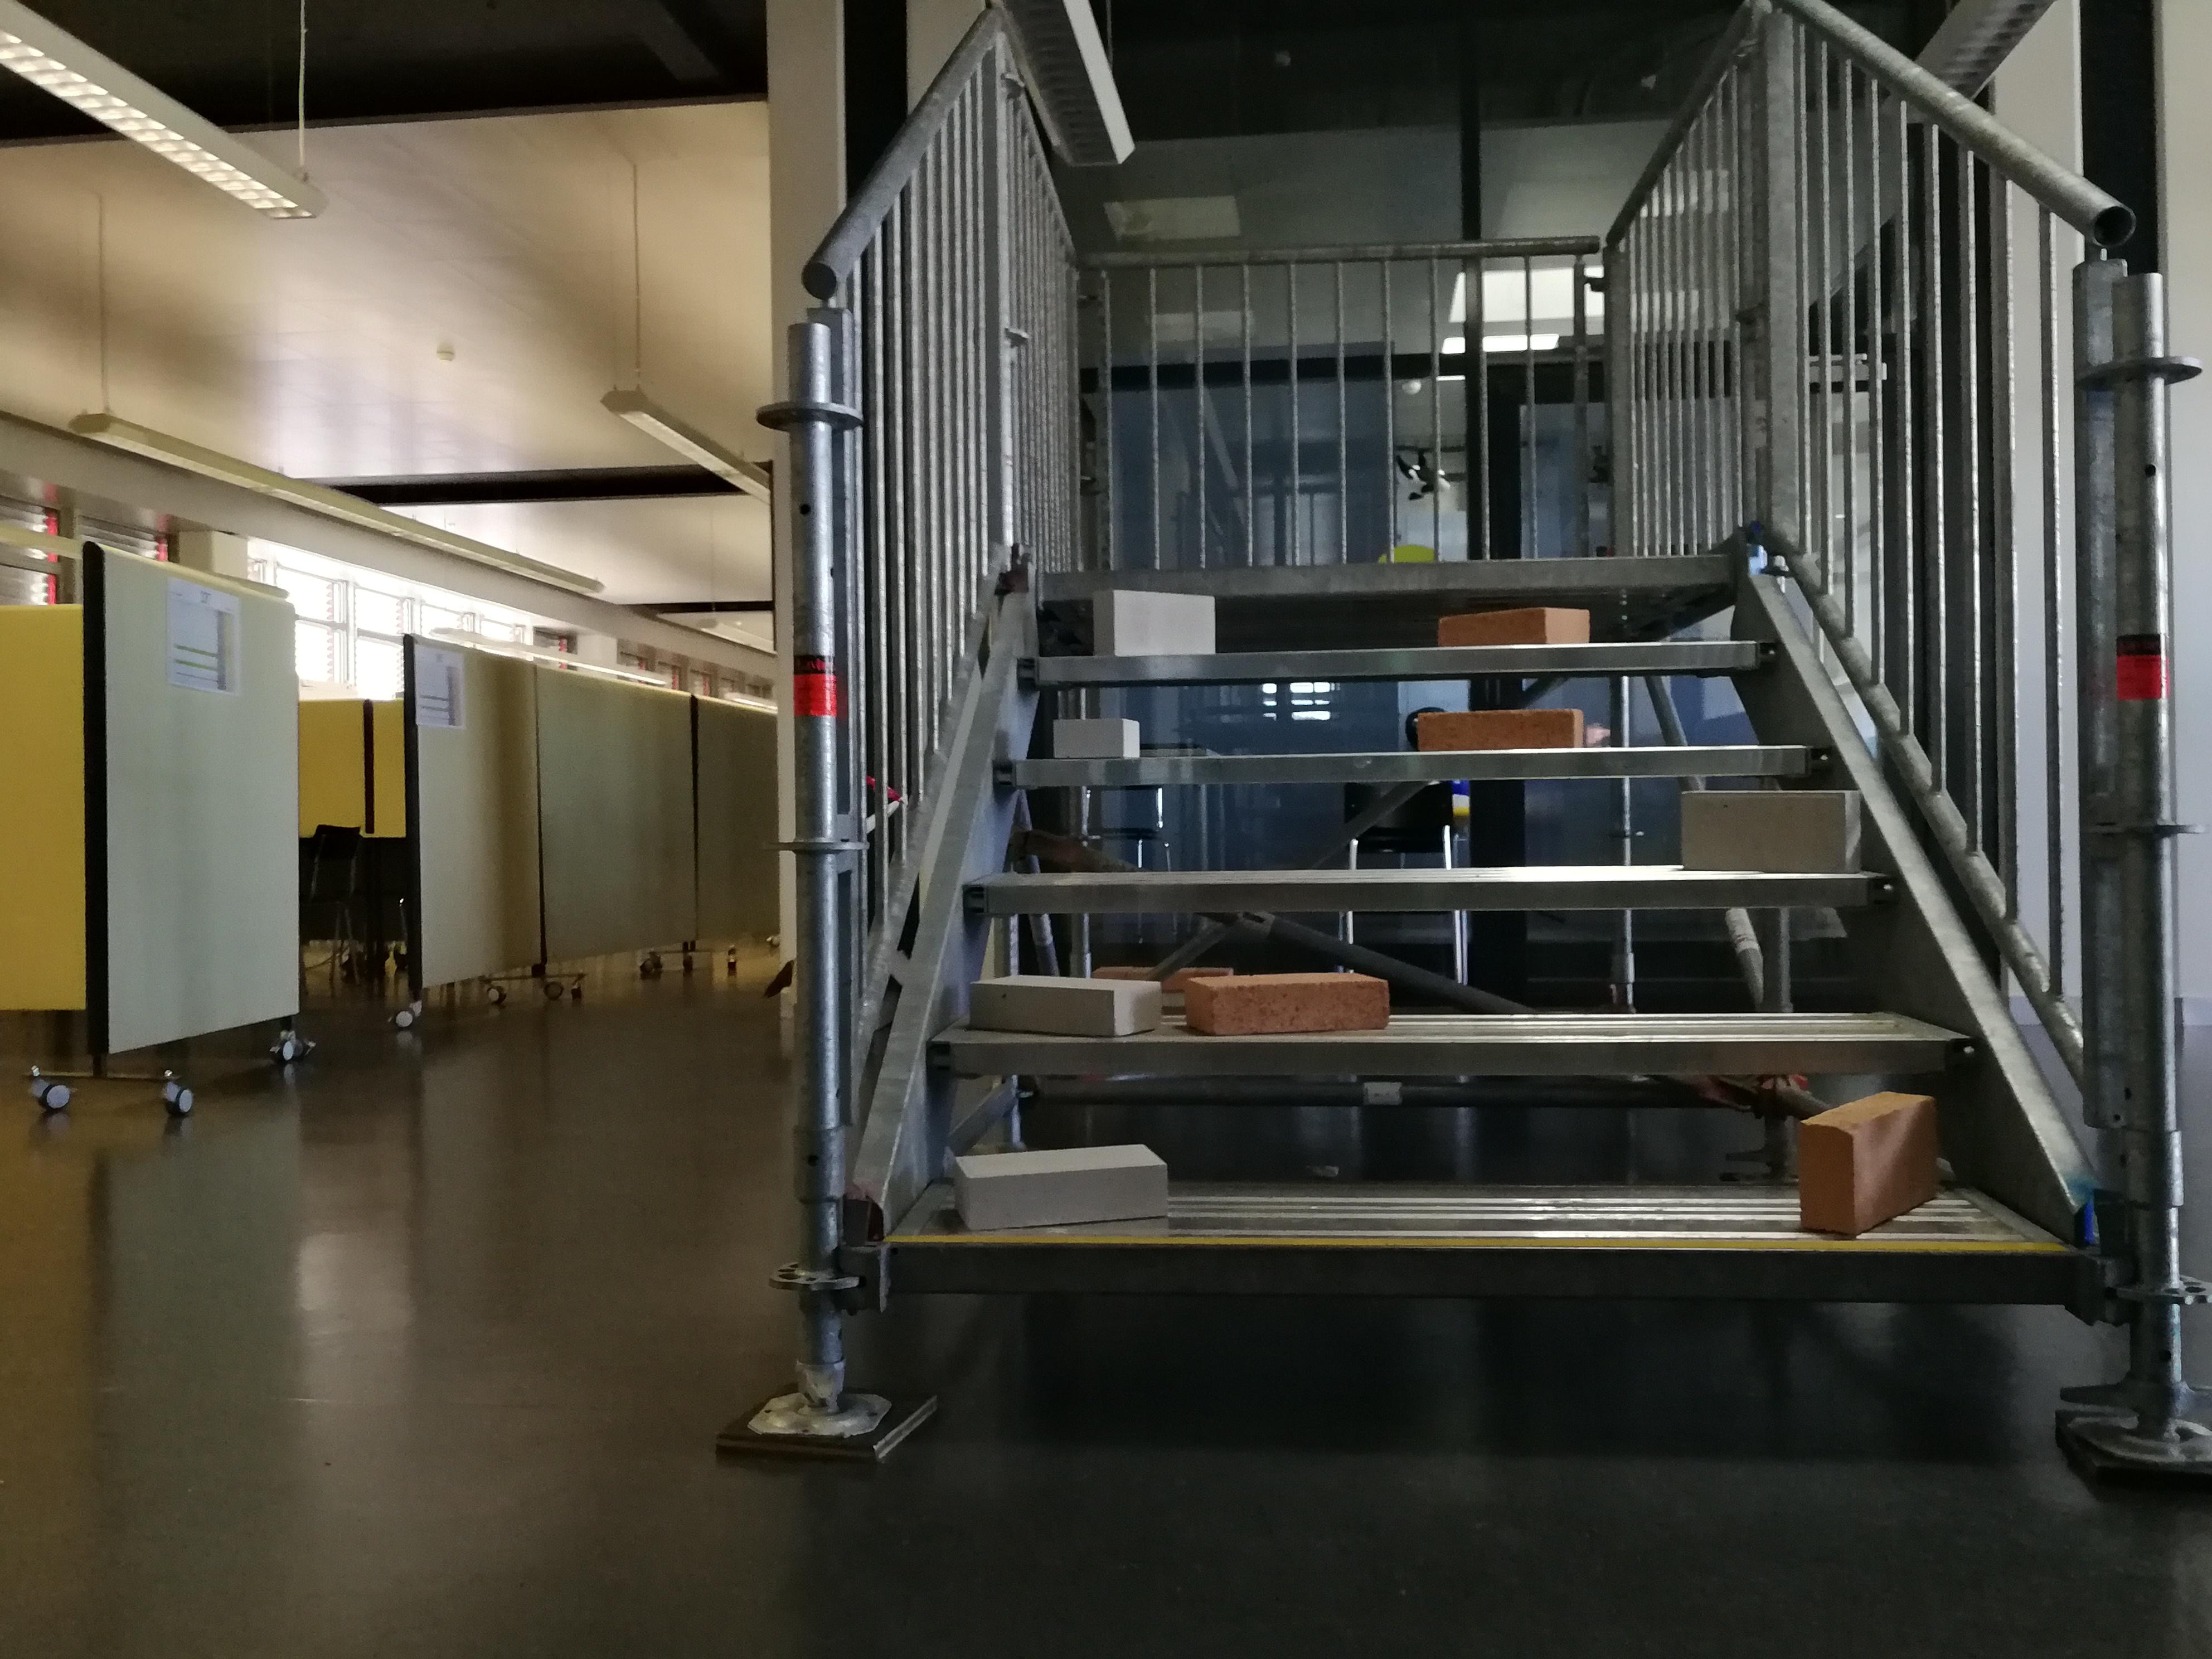brick: (1801, 1094, 1939, 1236), (953, 1143, 1167, 1230), (1679, 789, 1862, 870), (1186, 969, 1388, 1035), (970, 976, 1158, 1033), (1094, 586, 1214, 652), (1420, 706, 1581, 748), (1433, 605, 1585, 645), (1055, 720, 1141, 760)
edge: (885, 1237, 2081, 1303), (927, 1035, 1982, 1073), (1015, 638, 1777, 681), (961, 875, 1898, 908), (991, 748, 1834, 784), (1043, 551, 1738, 592)
stairs: (718, 7, 2212, 1499)
steps: (871, 538, 2090, 1328)
